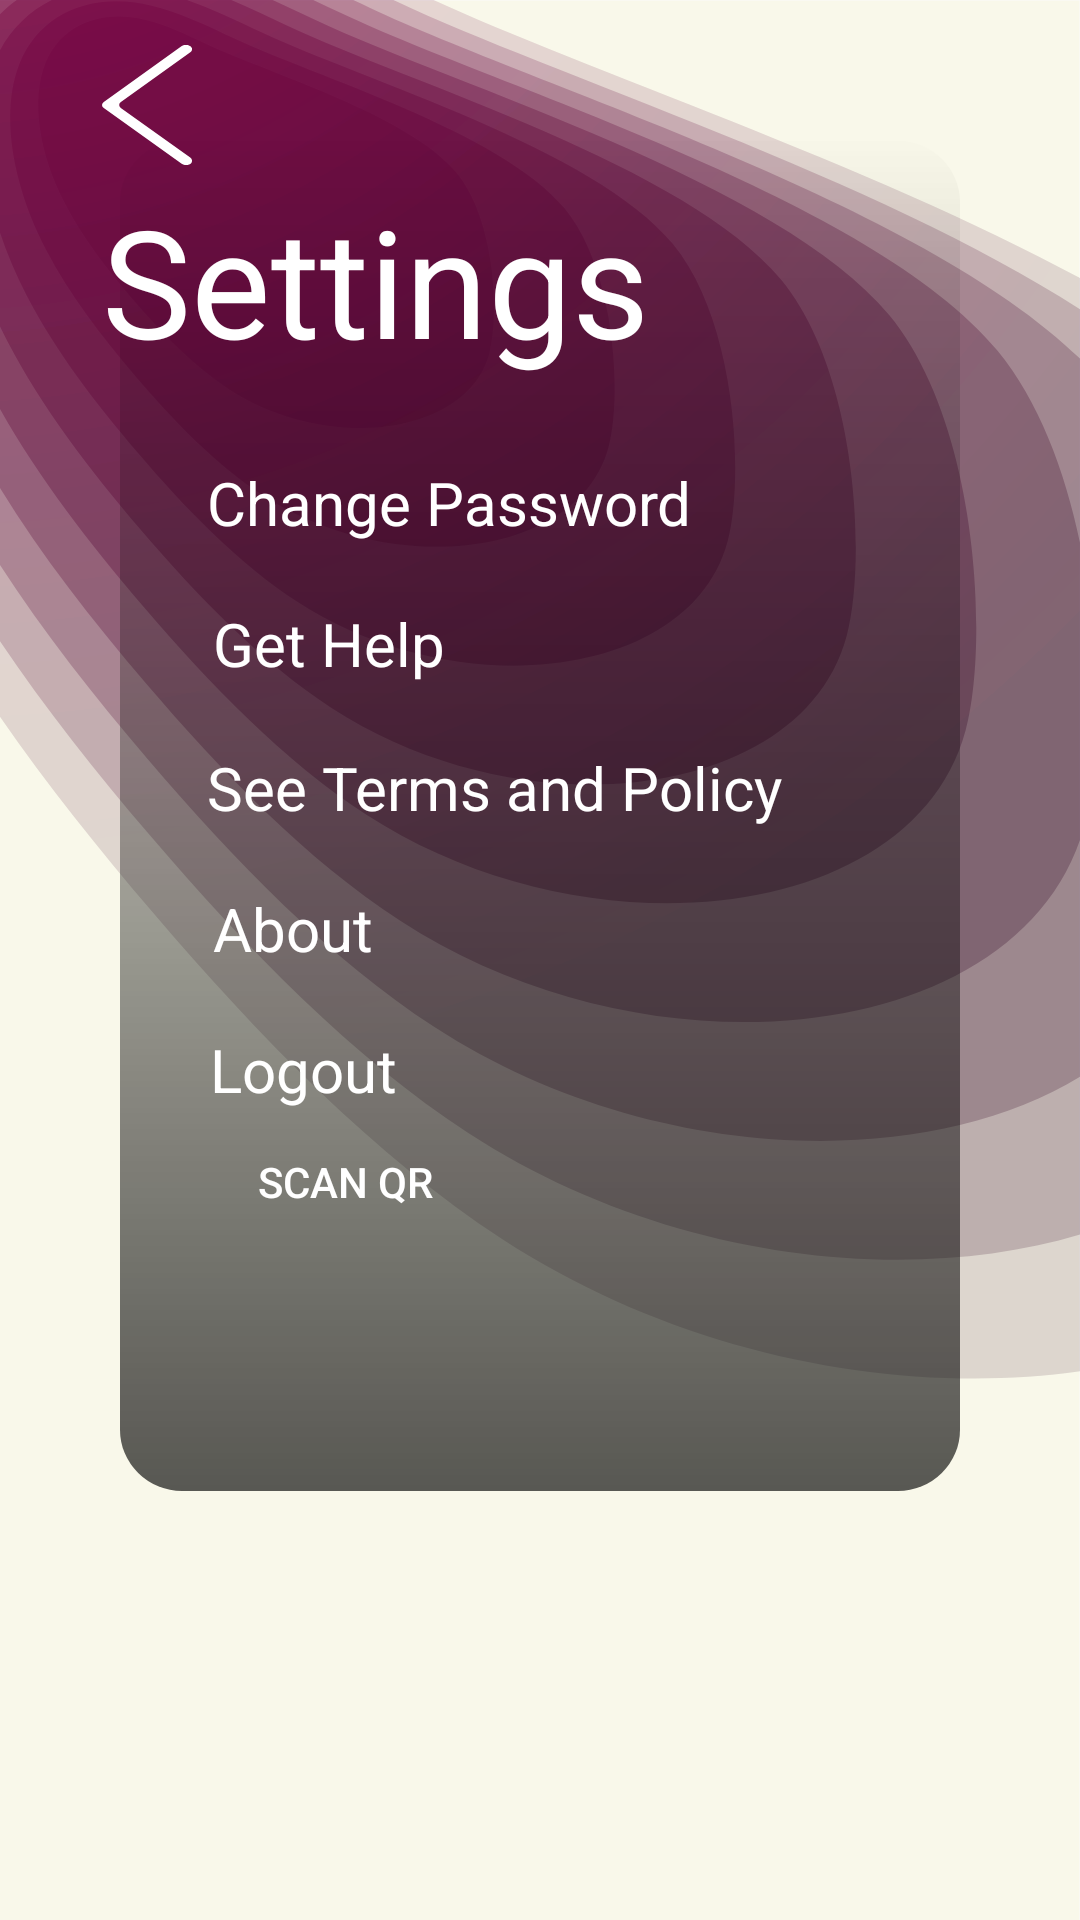

Named icons in this screenshot (1080px x 1920px) and their bounding boxes, Rect(x1, y1, x2, y2):
back tgl: Rect(102, 45, 192, 165)
